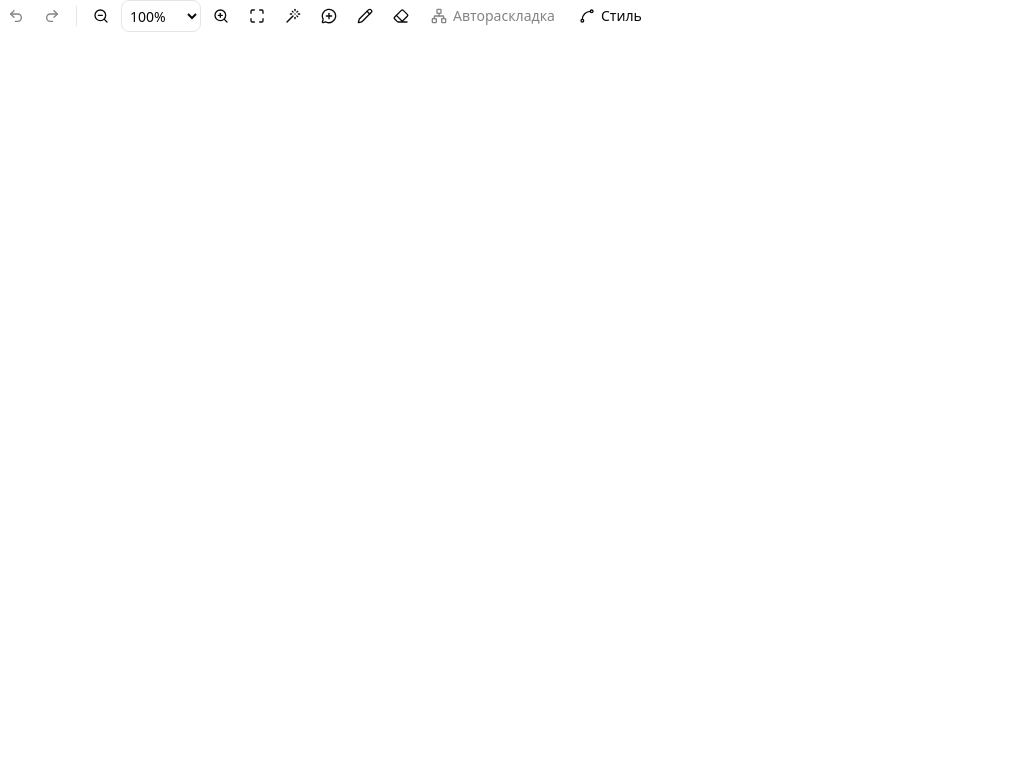
Test: EditorToolbar › offers no rounding for shapes without corners, and neither shadow nor rounding for edges
The width and height of the screenshot is (1024, 768).
Click the button with aria-label "Стиль линии" at [610, 16], box [569,0,652,32]
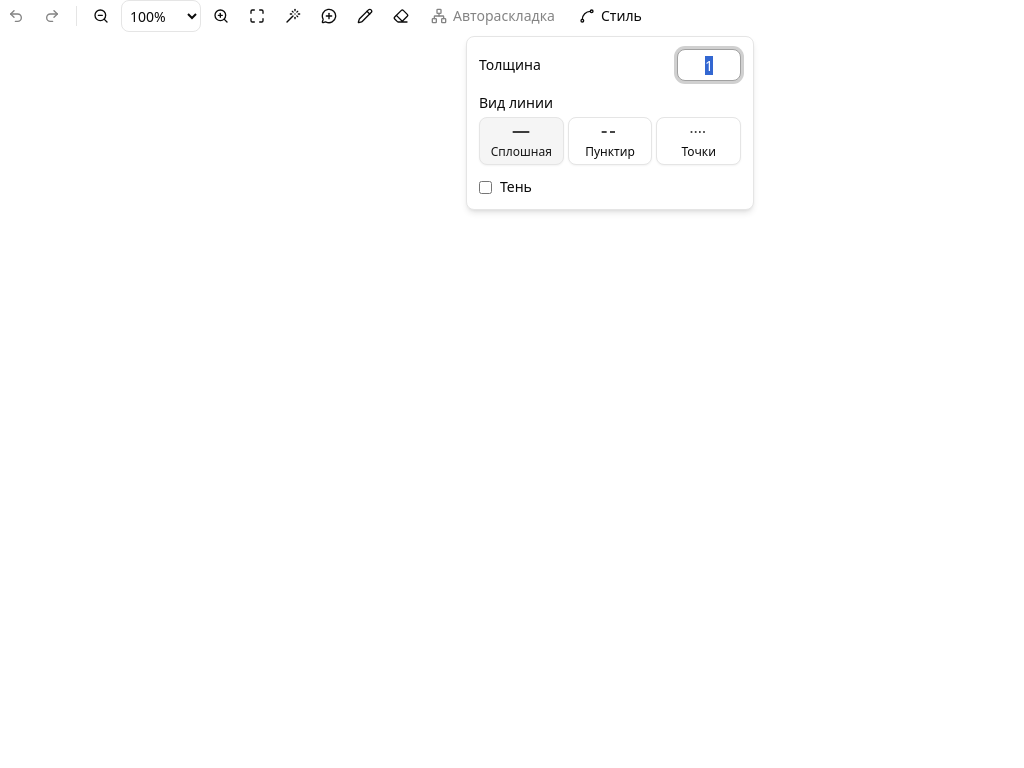
expect the checkbox labelled "Тень" is shown: met, box [479,180,492,194]
